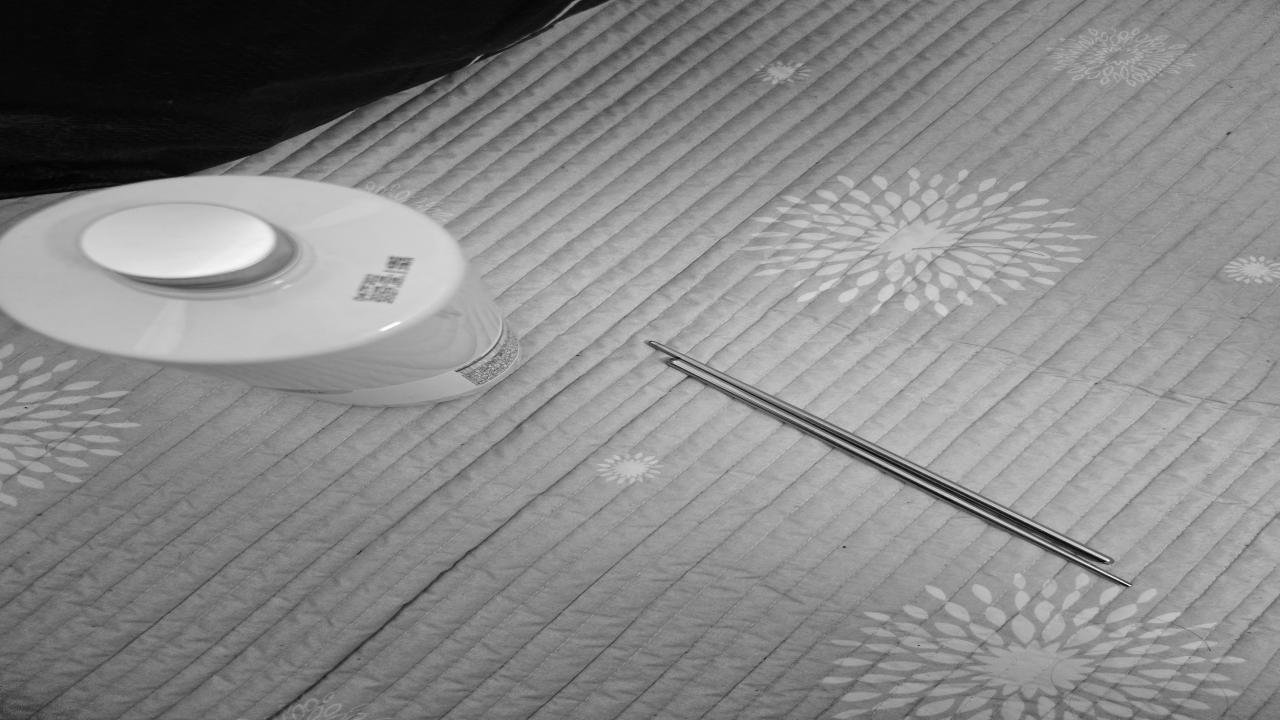chopstick: (632, 335, 1140, 591)
